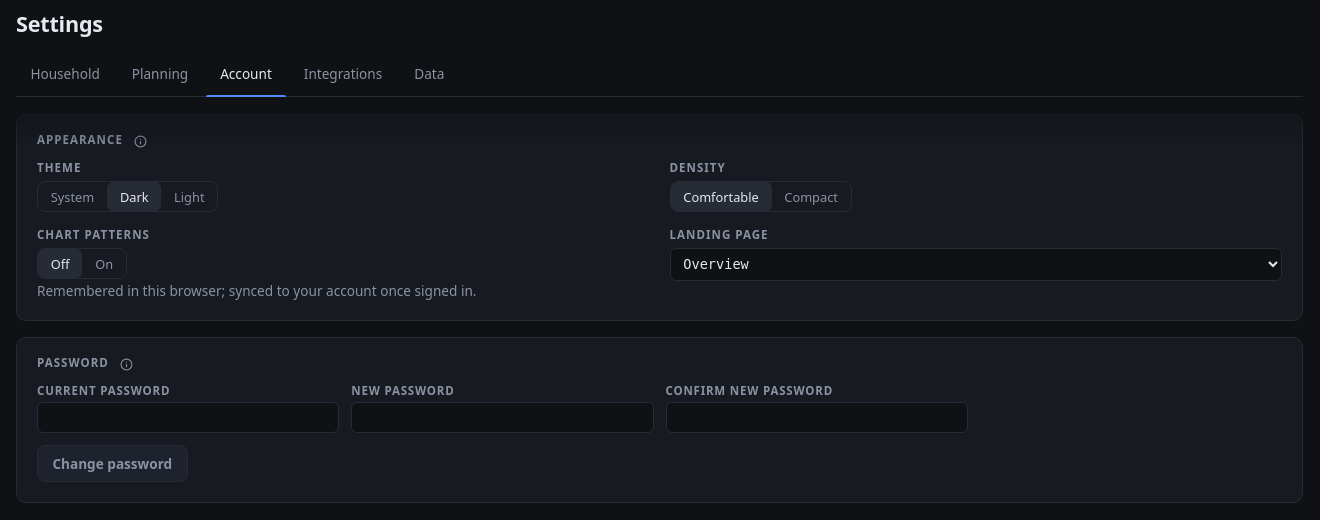
Test: SettingsPage — password › refuses a new/confirm mismatch without spending a request
In the password field labelled "Current password": (188, 417) 37,402 -> 339,433, type "old-pw"
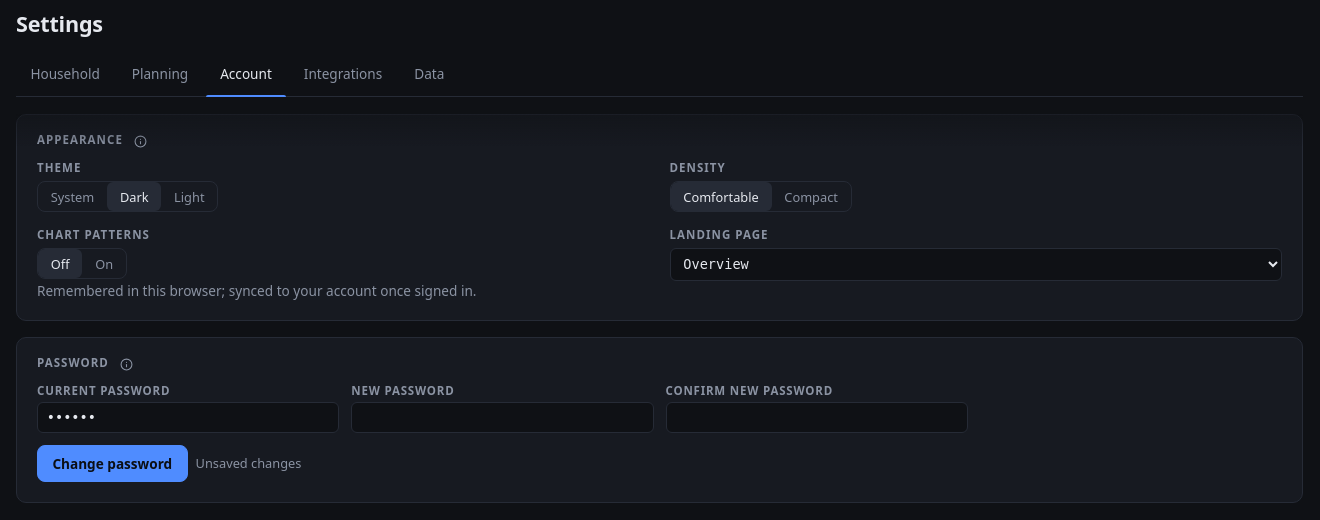
In the password field labelled "New password": (502, 417) 351,402 -> 654,433, type "new-pw-12345"
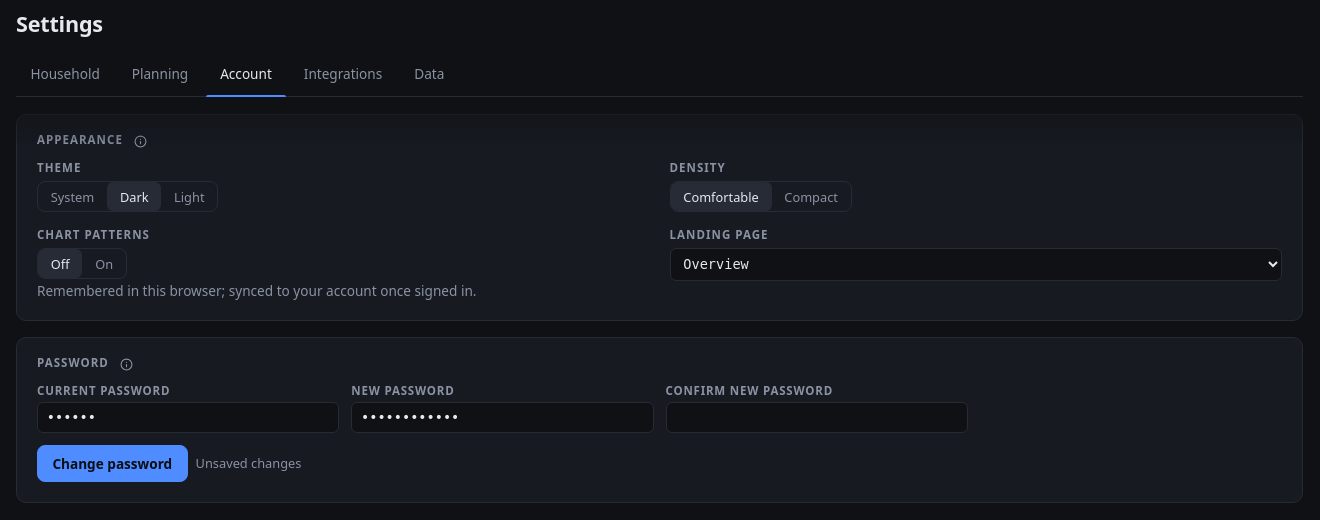
In the password field labelled "Confirm new password": (817, 417) 666,402 -> 968,433, type "new-pw-12346"
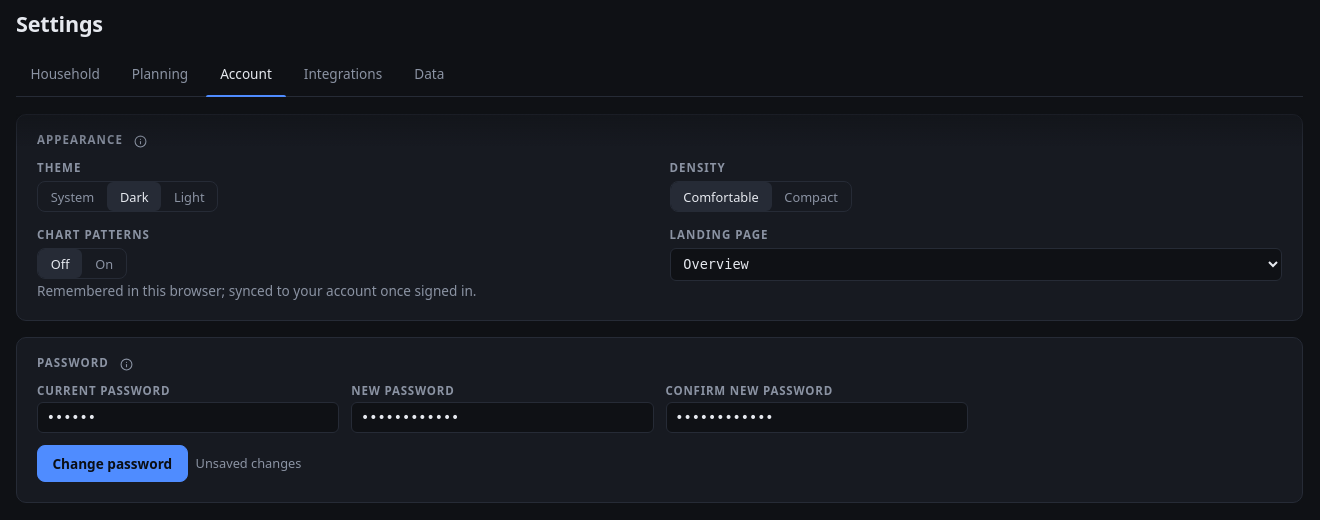
Click the button "Change password": (112, 463) 37,445 -> 188,482
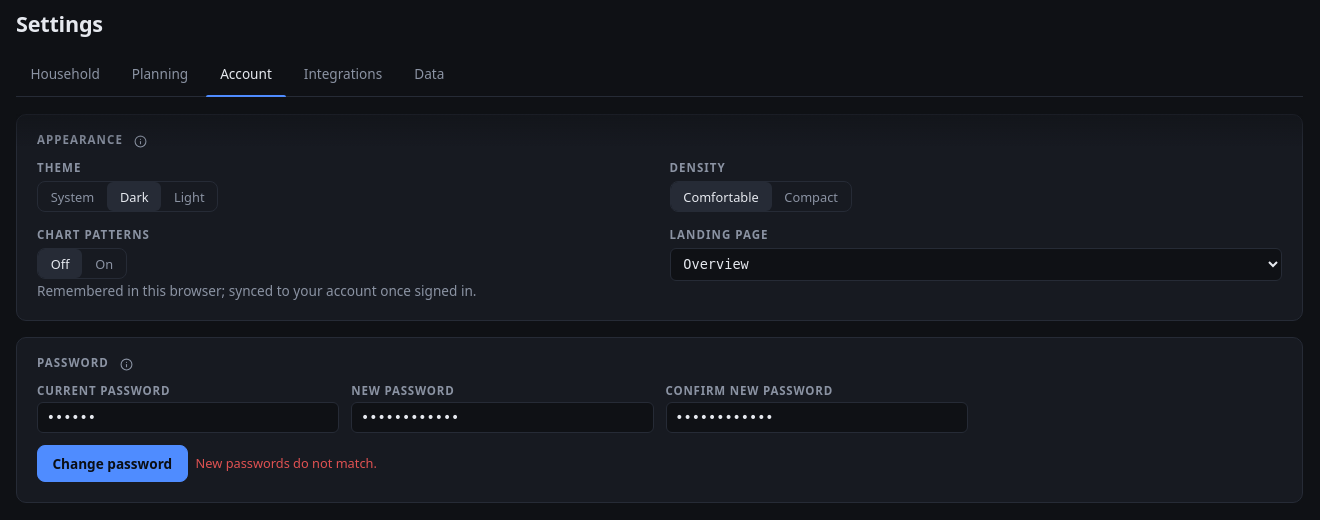
Now the text "New passwords do not match." is shown, box 196,455 -> 377,471
